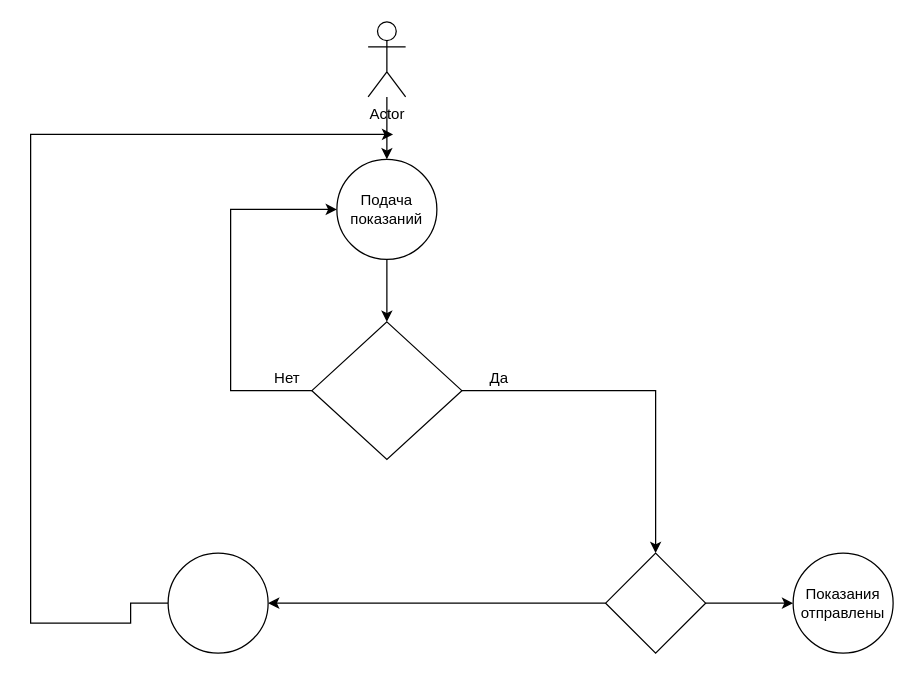
This 915x675 diagram has some shape labels left out. Each missing label, with the box of its shape:
Возвращения на страницу показаний: (167, 552, 268, 653)
Данные введены верно: (311, 321, 462, 459)
